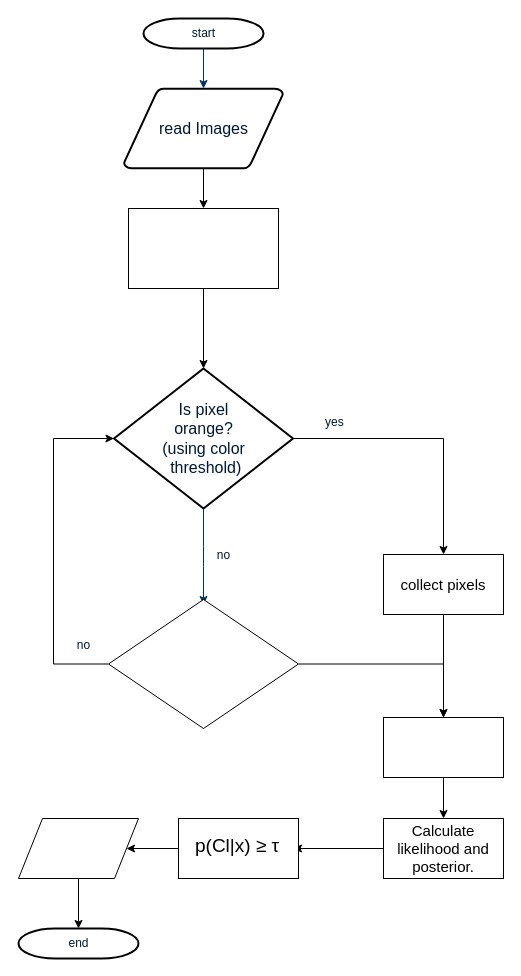
This 521x976 diagram has some shape labels left out. The centre of each missing label's shape, as x and y in pixels:
"calculate mean and co-variance" goes at point 443,747.
"Convert the images to color space." goes at point 203,248.
"mask image" goes at point 78,848.
"Visited all pixels?" goes at point 203,663.
